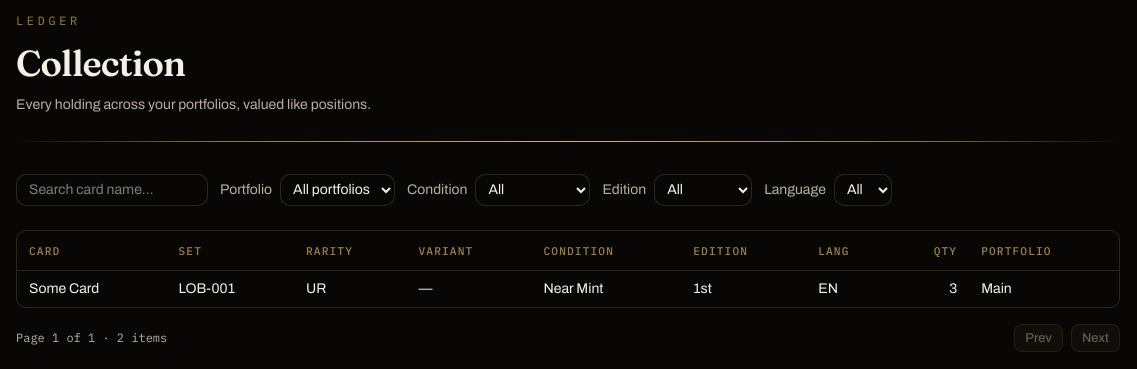
Test: CollectionPage › filters by the condition facet and resets to page 1
Expected: the text "Some Card" is shown, [17,271,166,307]
Select "Near Mint" in the dropdown named "filter by condition": (533, 190) [475,174,590,206]
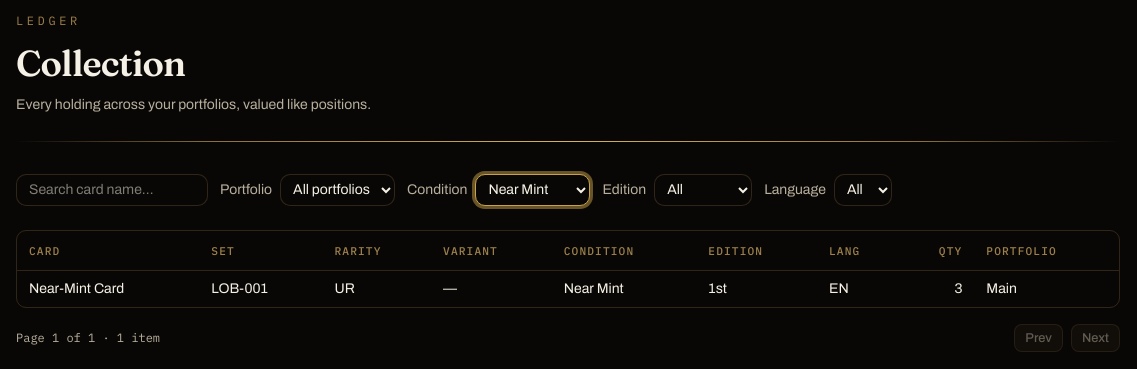
Now the text "Near-Mint Card" is shown, box [17,271,199,307]
